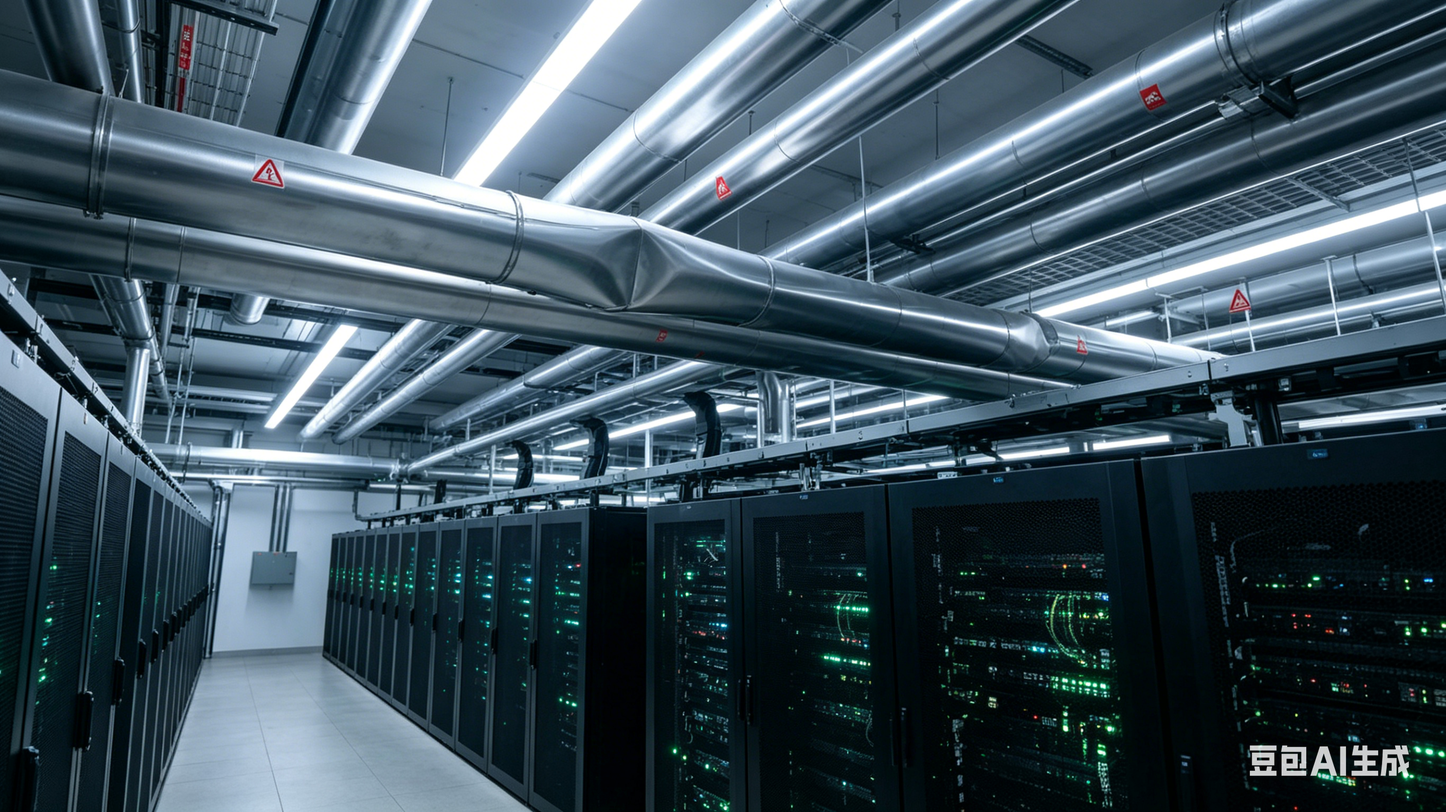Leakage: (594, 215, 690, 315)
